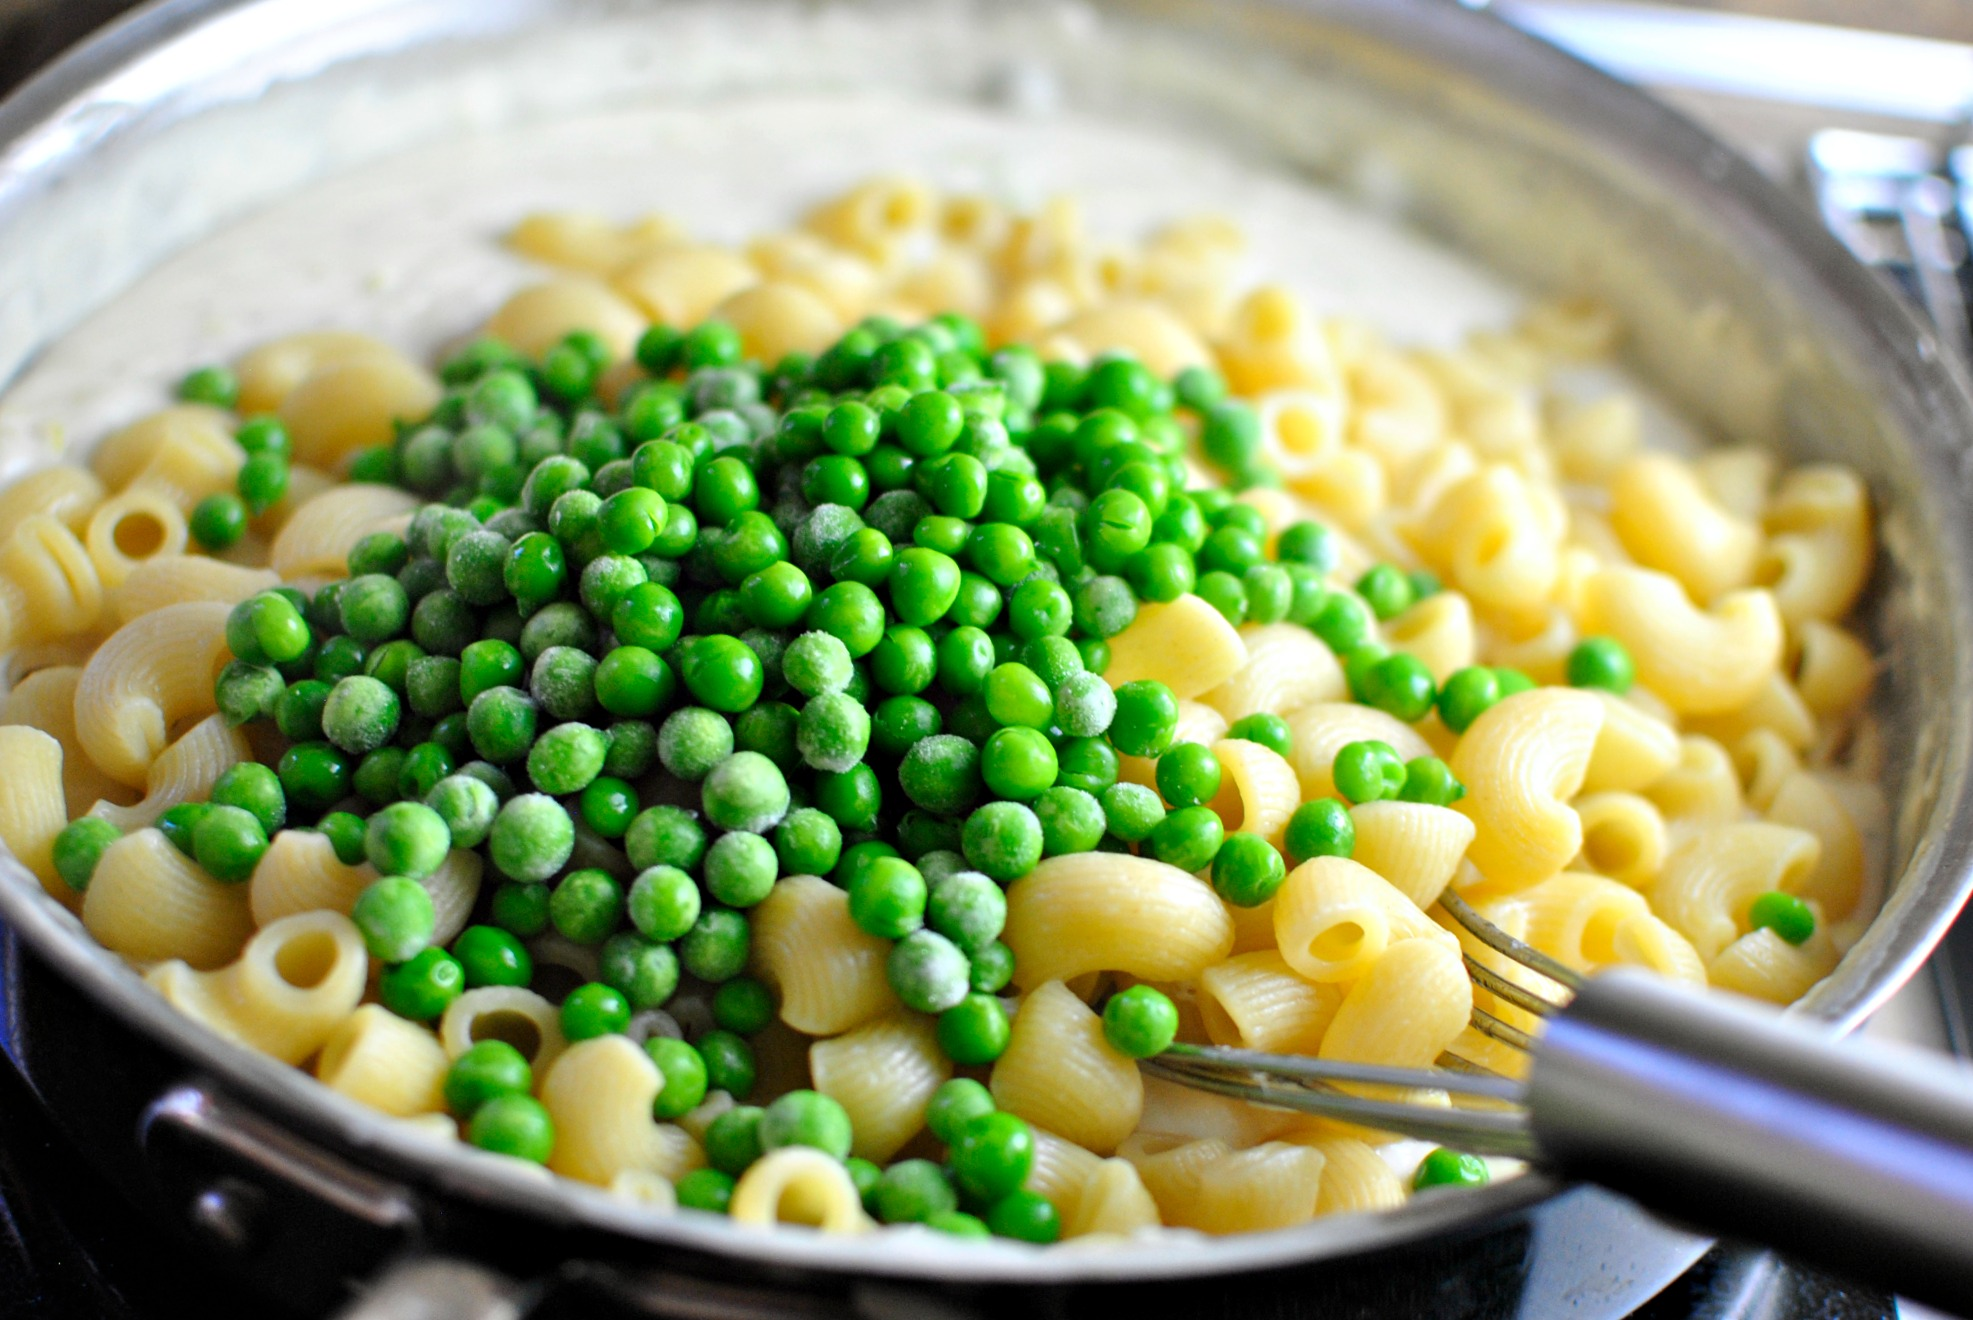macncheese: (1425, 399, 1902, 882)
